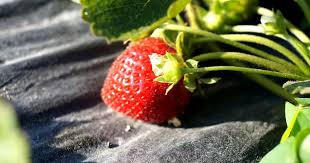ripe: (98, 33, 199, 124)
